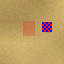vehicle: (22, 21, 34, 36)
